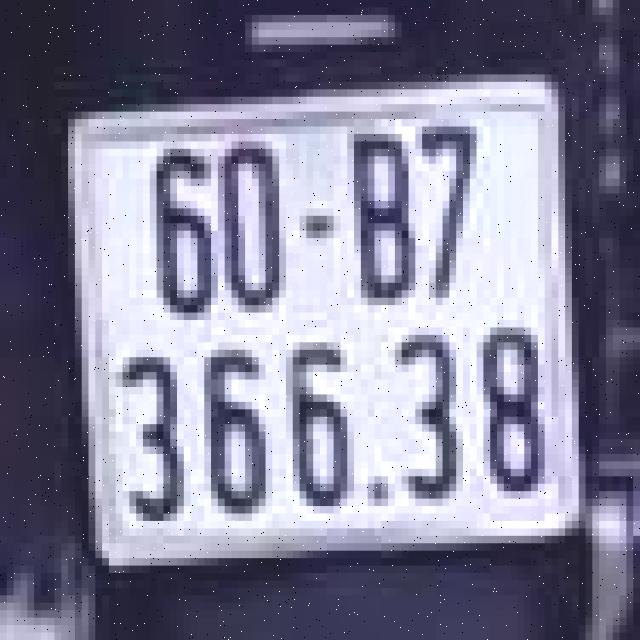0: (214, 126, 290, 312)
3: (392, 316, 466, 502), (116, 342, 184, 521)
6: (133, 138, 221, 331), (201, 346, 269, 517), (286, 335, 354, 506)
7: (419, 108, 487, 301)
8: (484, 309, 552, 502)
B: (341, 115, 422, 309)
